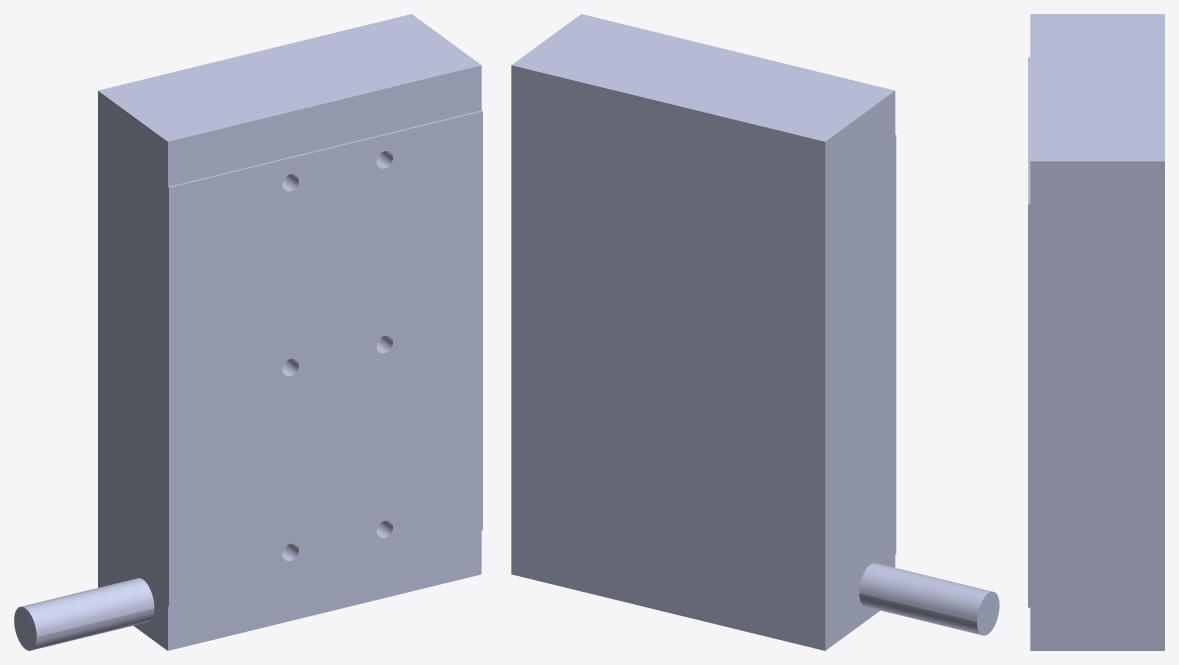
Rendered from MTC-3.glb.
The picture shows the model from 3 angles, left to right: view 1: azimuth 30°, elevation 25°; view 2: azimuth 150°, elevation 25°; view 3: azimuth 270°, elevation 25°; orthographic projection. The views are drawn at different scales.
Visible parts, largest first — view 1: MTC-3_node_1; view 2: MTC-3_node_1; view 3: MTC-3_node_1.
Boxes of the visible parts, x1=… form: MTC-3_node_1: x1=14, y1=14, x2=482, y2=650; MTC-3_node_1: x1=511, y1=14, x2=999, y2=650; MTC-3_node_1: x1=1028, y1=14, x2=1164, y2=650.
Size of the model in its own units: 110 by 124 by 31.4.
